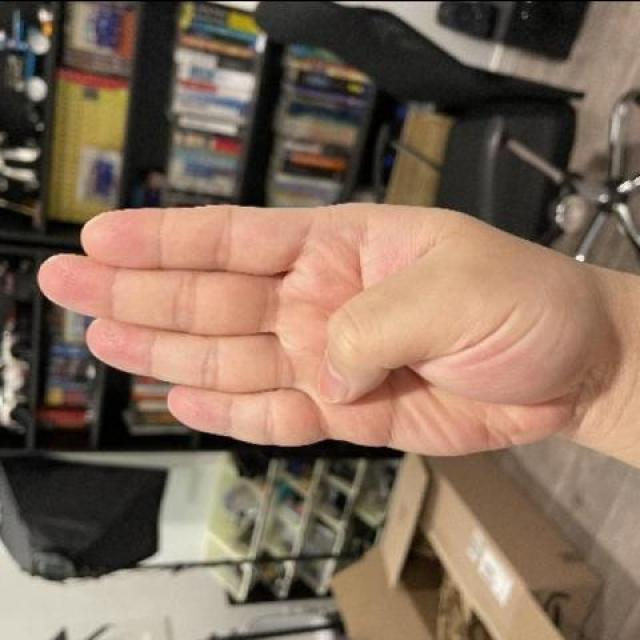Open Hand: (37, 197, 639, 459)
